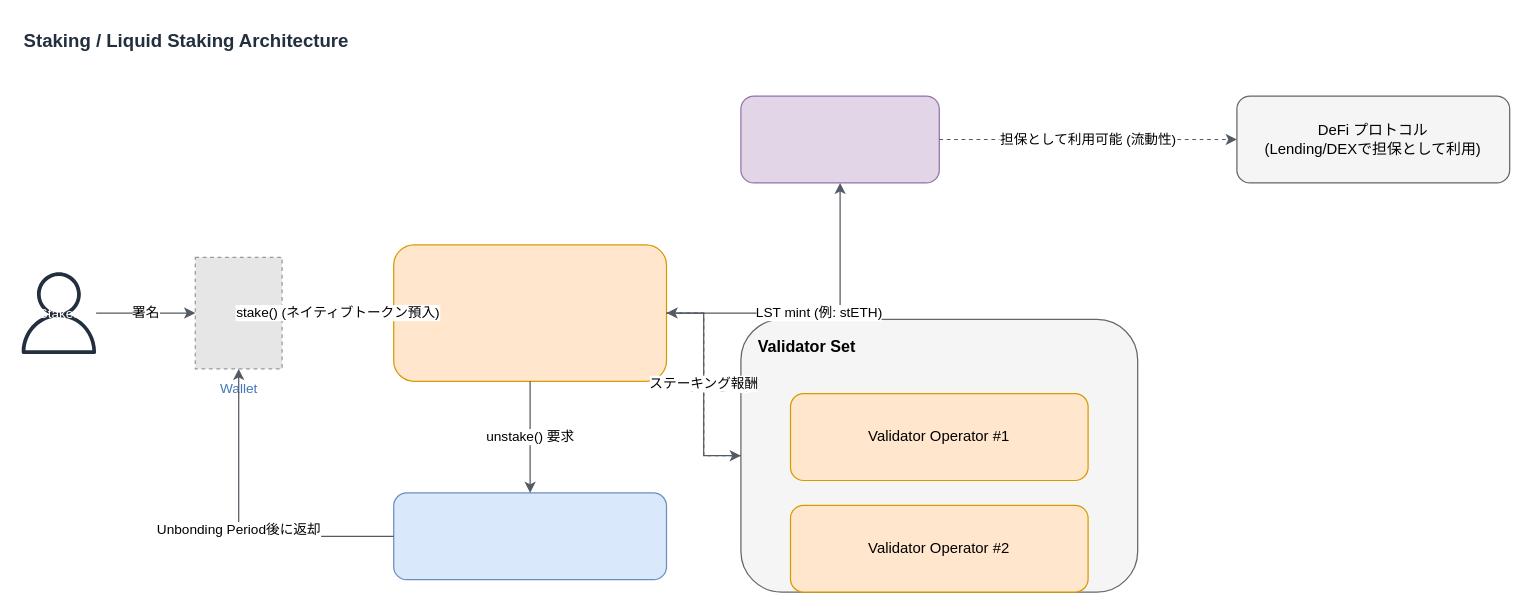
This 1531x614 diagram has some shape labels left out. Grey dashed boxes stand in for pictures. The shapes that lost their labels are listed below. From the top down, each one's centre as x and y in pixels, then its label:
At (839,139): "Liquid Staking Token (例: stETH)".
At (529,312): "Liquid Staking Protocol (デポジット管理)".
At (529,536): "出金キュー (Unbonding Period)".
